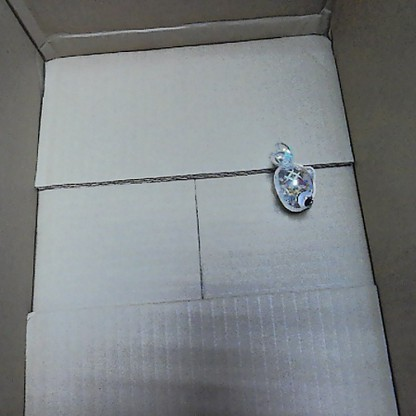whitefish: (264, 141, 319, 213)
